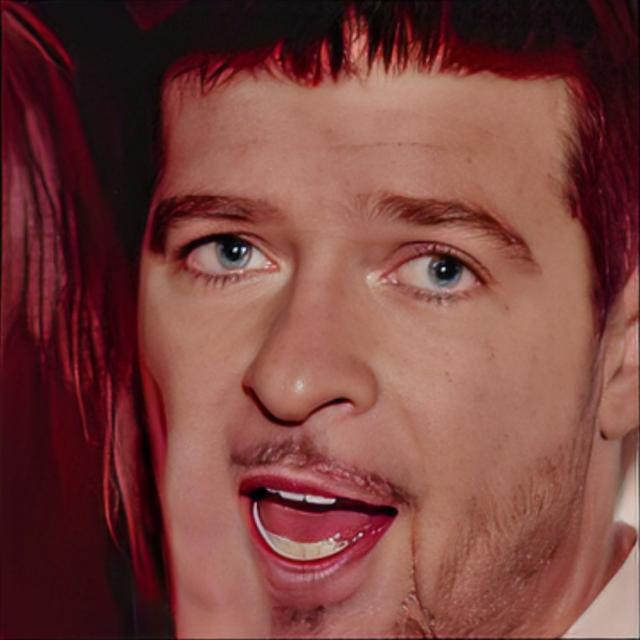surprise: (129, 0, 596, 640)
